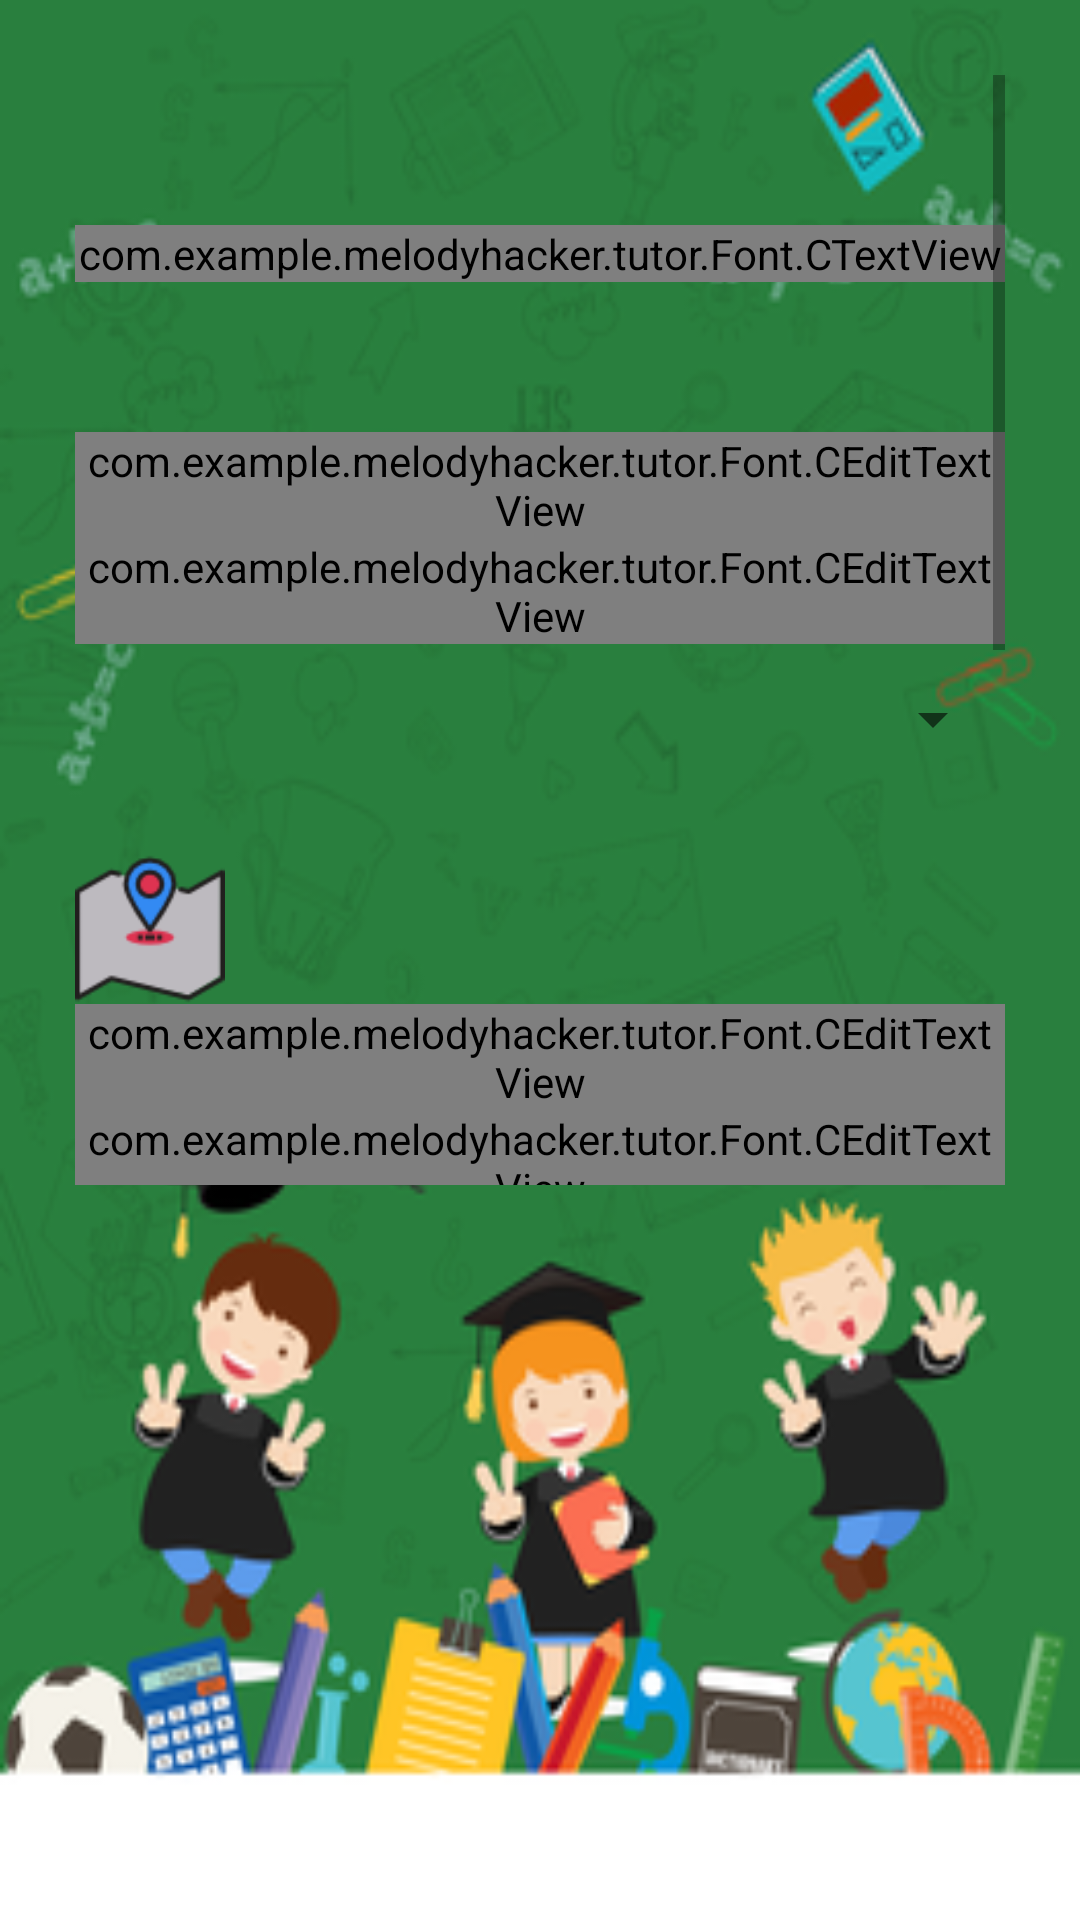

Named icons in this screenshot (1080*1920) and their centers, (x=x, y=y):
where: (x=150, y=929)
